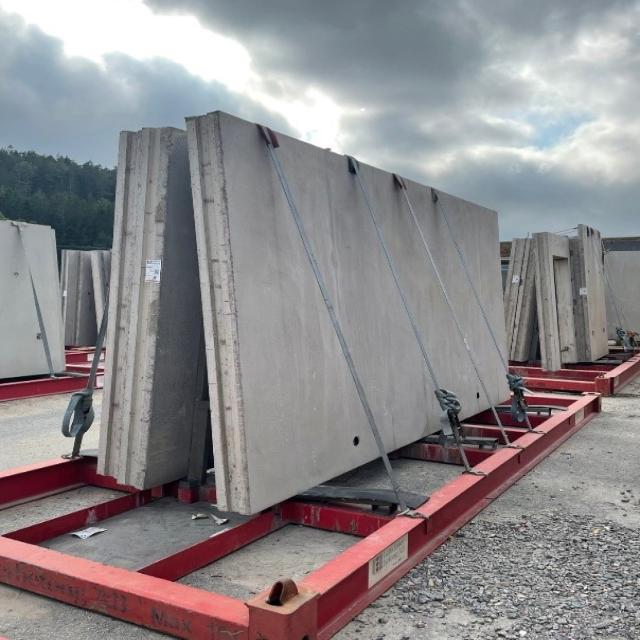Concrete: (88, 106, 512, 487), (503, 214, 622, 370)
